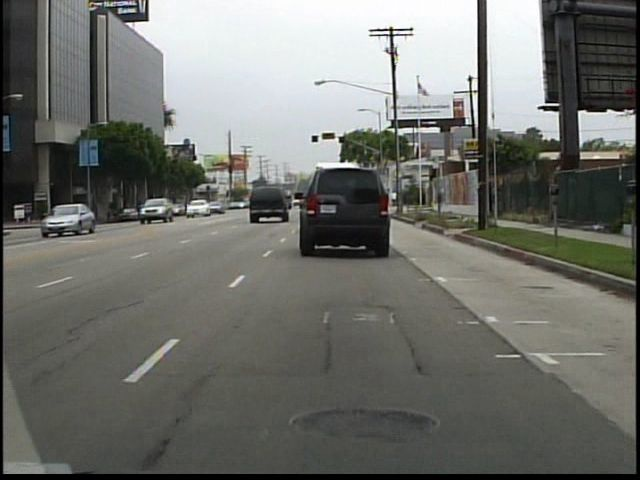person: (391, 188, 398, 207)
